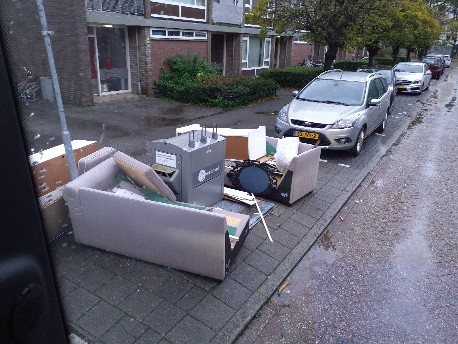Container: (150, 129, 231, 193)
Rest: (88, 175, 257, 276), (230, 126, 306, 196), (74, 137, 142, 198), (41, 153, 82, 214)
Voertuig: (297, 61, 406, 153), (409, 57, 452, 93)
